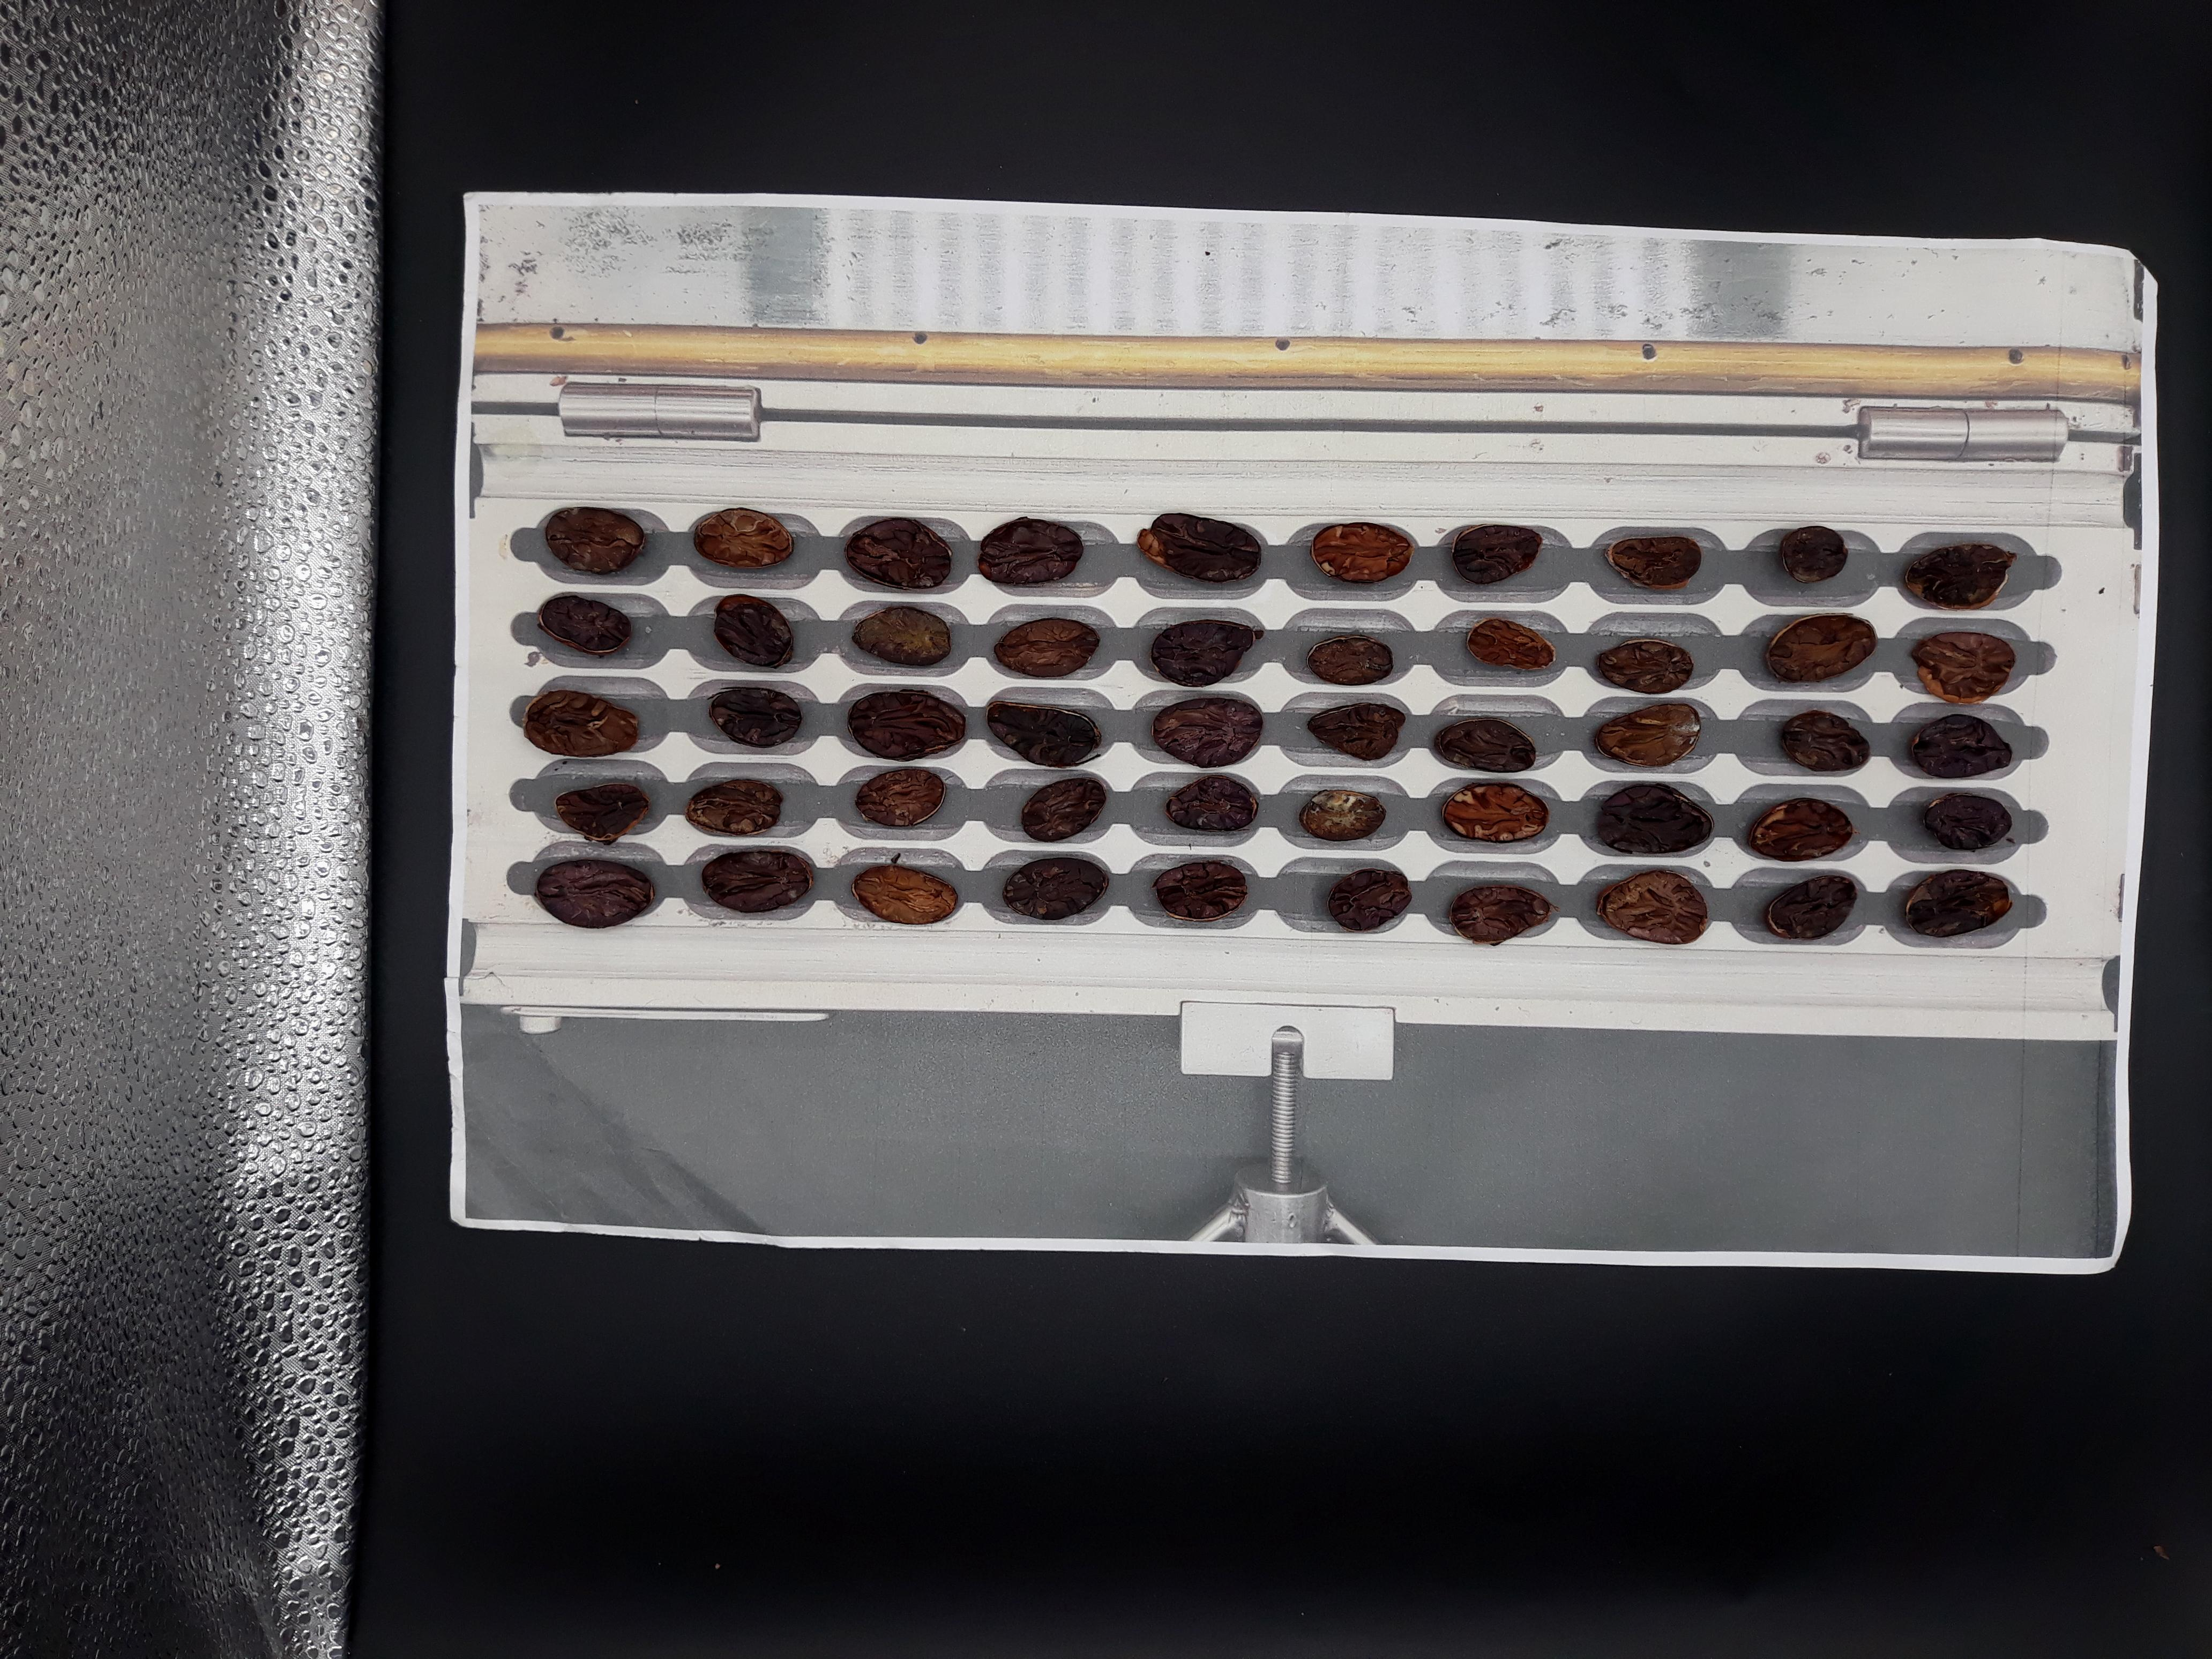Brown - G1: (418, 1175, 484, 1216), (944, 1148, 1003, 1188), (866, 1230, 921, 1269), (712, 1222, 772, 1256), (338, 1218, 392, 1255), (650, 1094, 704, 1131), (791, 1150, 843, 1185), (726, 1141, 775, 1173)
Brown - G2: (789, 1265, 852, 1307), (260, 1178, 322, 1213), (719, 1274, 775, 1309), (644, 1185, 702, 1216), (343, 1087, 397, 1121), (421, 1216, 474, 1248)
Brown - G3: (873, 1138, 934, 1180), (268, 1086, 324, 1124), (420, 1263, 477, 1298), (491, 1140, 549, 1175), (794, 1100, 846, 1133)
Brown - G4: (643, 1148, 695, 1180)
Insect-damaged: (418, 1136, 475, 1171)
Mouldy: (789, 1183, 846, 1220), (643, 1227, 691, 1260)
Partly Purple - G1: (789, 1223, 857, 1263), (571, 1260, 622, 1298)
Partly Purple - G2: (570, 1178, 629, 1220), (942, 1265, 1001, 1307), (484, 1091, 542, 1131), (488, 1183, 550, 1220), (347, 1255, 408, 1291), (653, 1263, 704, 1303), (874, 1269, 925, 1309), (719, 1094, 768, 1129)
Total Purple - G2: (944, 1190, 1000, 1227), (575, 1218, 631, 1253)
Total Purple - G3: (263, 1258, 329, 1300), (568, 1141, 631, 1178), (263, 1129, 322, 1164), (949, 1229, 1001, 1262)
Very Dark Brown - G1: (559, 1087, 631, 1131), (942, 1103, 1007, 1143), (352, 1129, 401, 1171)
Very Dark Brown - G2: (418, 1089, 477, 1131), (348, 1175, 402, 1213), (881, 1187, 932, 1223), (273, 1222, 326, 1256), (505, 1220, 552, 1256)
Very Dark Brown - G3: (496, 1260, 554, 1297), (709, 1190, 766, 1222), (878, 1094, 920, 1131)
